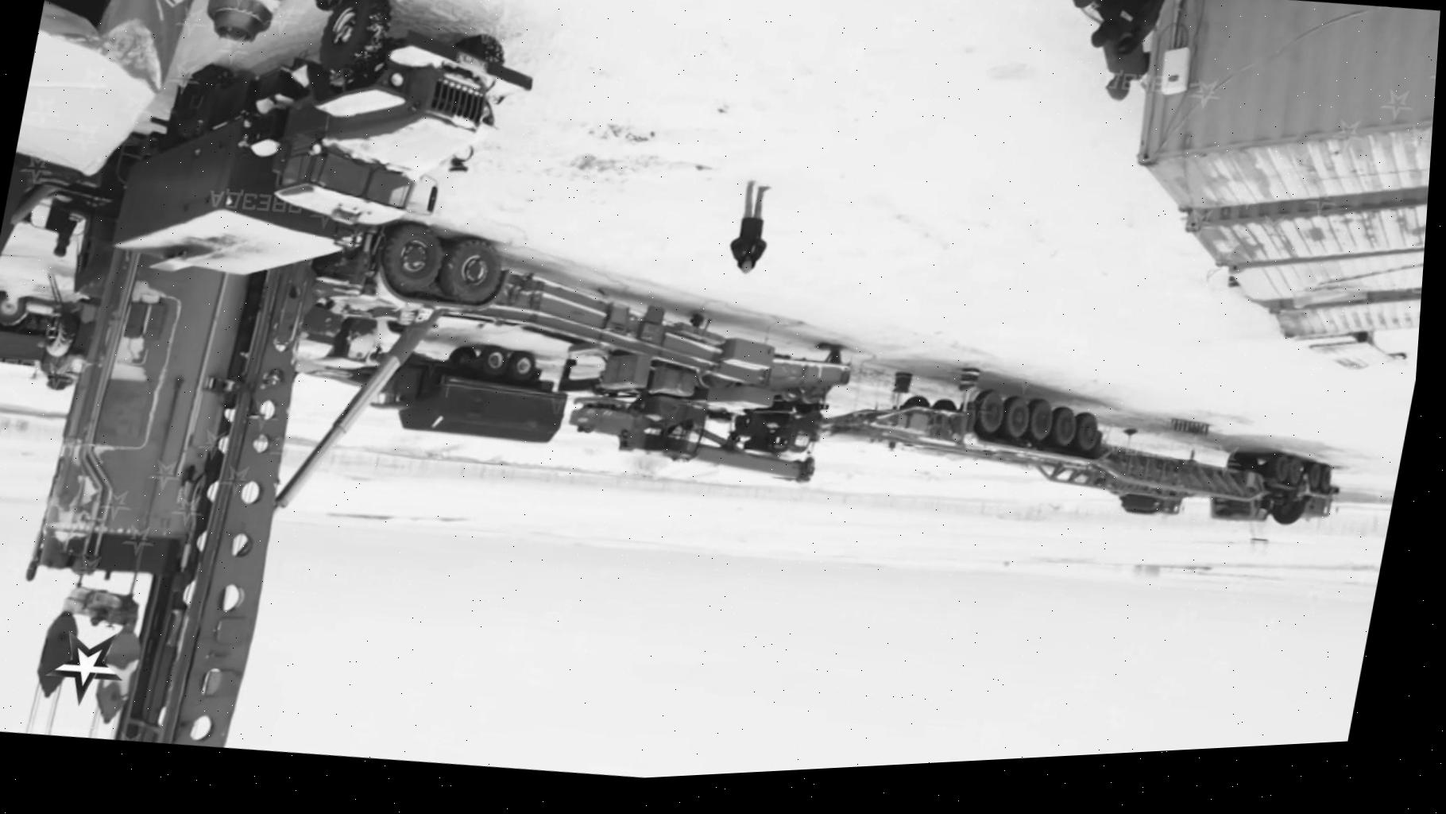person: (1089, 30, 1161, 108), (723, 179, 780, 277), (1089, 0, 1144, 54)
truck: (102, 0, 551, 316), (340, 320, 578, 462)
